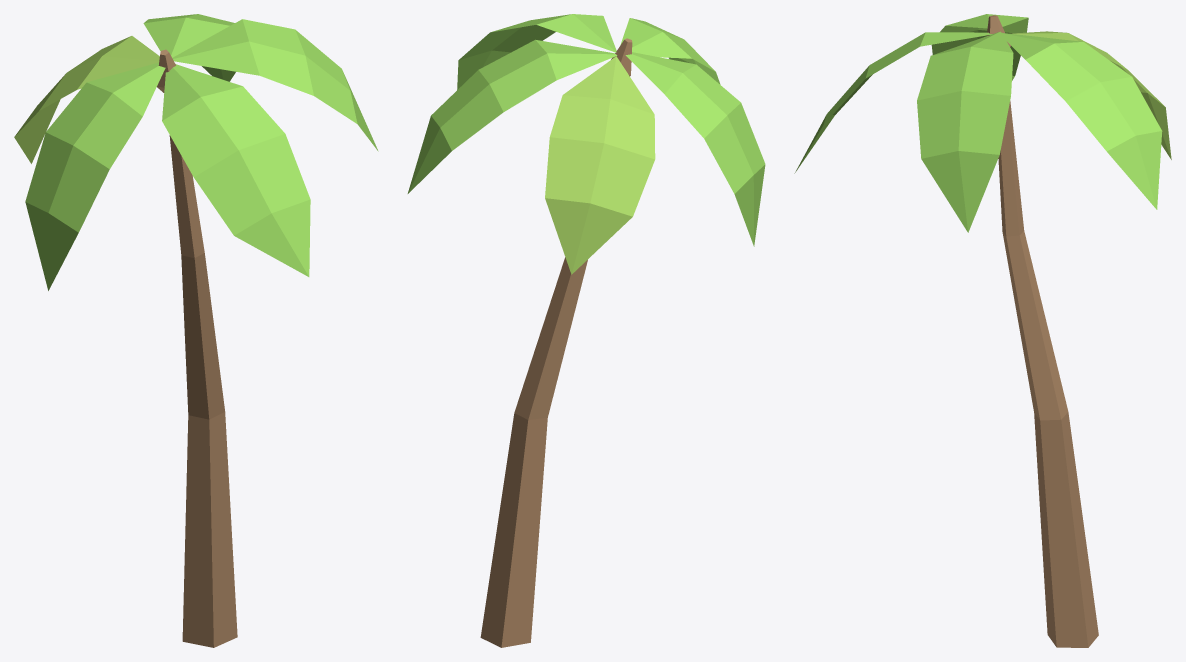
Rendered from Palm_Tree_s_BT_06.fbx.
3 views of the same model, side by side, from view 1: azimuth 30°, elevation 25°; view 2: azimuth 150°, elevation 25°; view 3: azimuth 270°, elevation 25° (orthographic). The views are drawn at different scales.
Visible parts, largest first — view 1: Palm_Tree_s_BT_06; view 2: Palm_Tree_s_BT_06; view 3: Palm_Tree_s_BT_06.
Boxes of the visible parts, x1=… form: Palm_Tree_s_BT_06: x1=14, y1=14, x2=378, y2=647; Palm_Tree_s_BT_06: x1=407, y1=14, x2=765, y2=647; Palm_Tree_s_BT_06: x1=794, y1=14, x2=1171, y2=647.
Size of the model in its own units: 211 by 393 by 229.
